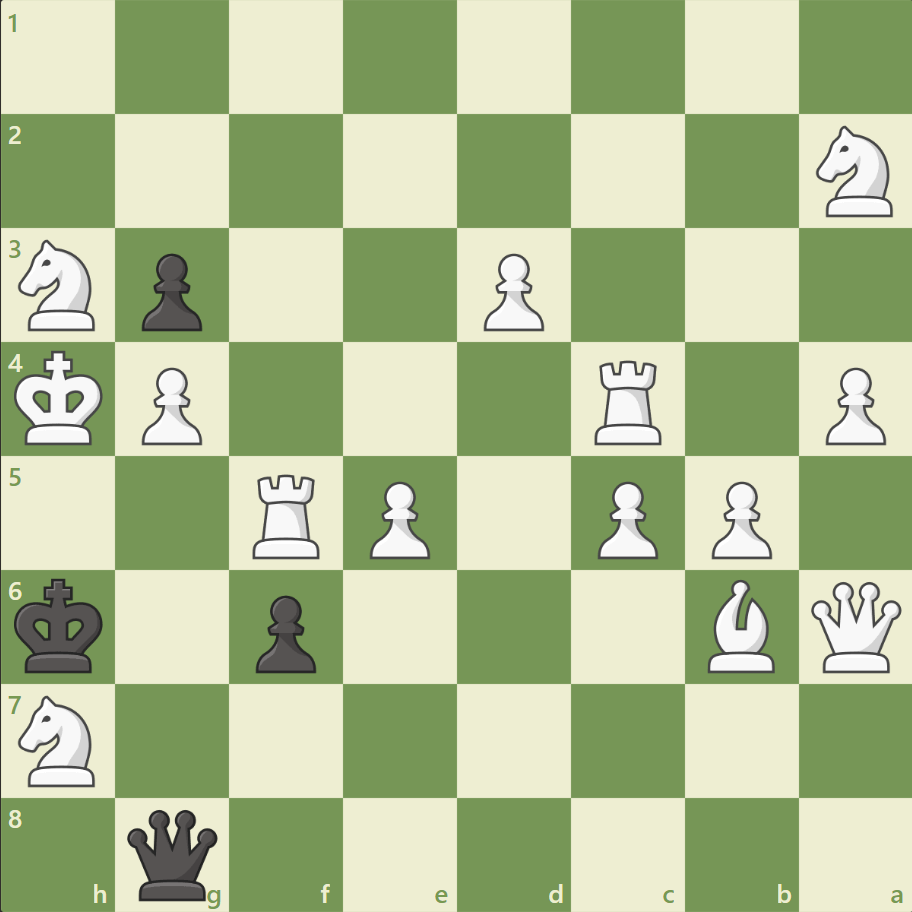B: (698, 574, 782, 676)
K: (11, 344, 111, 452)
N: (11, 688, 108, 791), (11, 234, 108, 337), (806, 121, 903, 223)
P: (701, 473, 776, 564), (133, 359, 208, 450), (474, 246, 549, 337), (588, 473, 662, 564), (361, 473, 435, 564), (815, 359, 889, 450)
Q: (805, 576, 904, 676)
R: (246, 466, 329, 563), (587, 352, 670, 449)
k: (11, 571, 111, 679)
p: (247, 586, 322, 677), (133, 246, 208, 337)
q: (124, 804, 223, 903)
